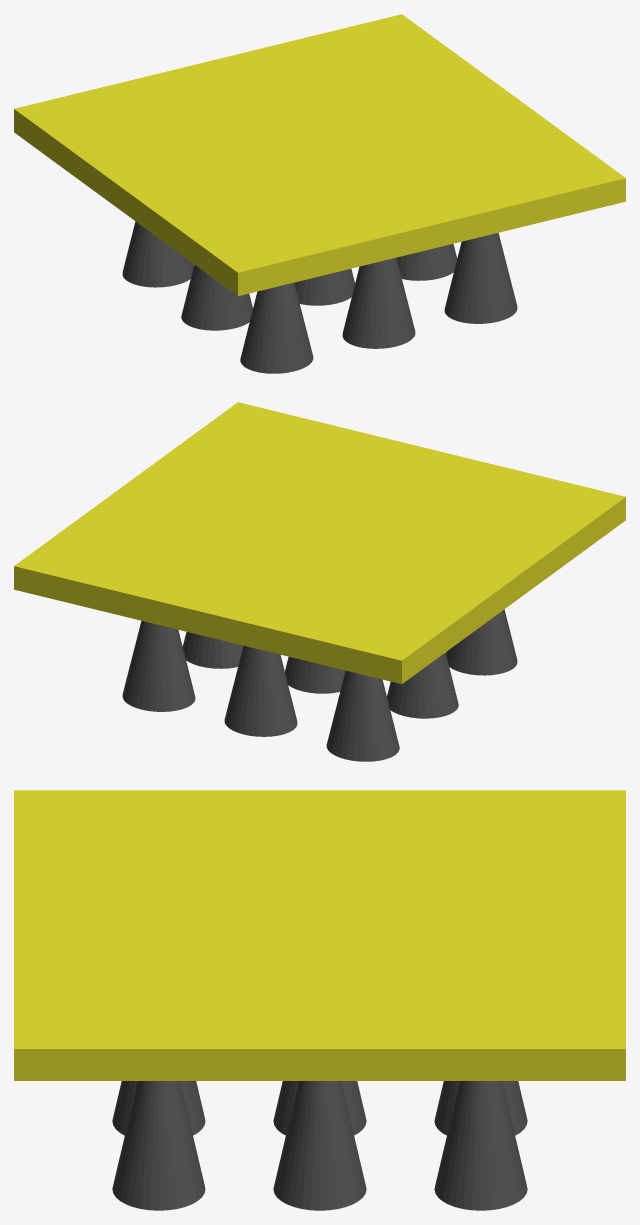
Rendered from thorns.fbx.
3 renders of one model, top to bottom at view 1: azimuth 30°, elevation 25°; view 2: azimuth 150°, elevation 25°; view 3: azimuth 270°, elevation 25°, orthographic. The views are drawn at different scales.
Visible parts, largest first — view 1: Cube, Cone.003; view 2: Cube, Cone.003; view 3: Cube, Cone.003.
Boxes of the visible parts, bbox=[...] form: Cube: bbox=[14, 14, 625, 296]; Cone.003: bbox=[122, 221, 517, 373]; Cube: bbox=[14, 402, 625, 684]; Cone.003: bbox=[122, 609, 517, 761]; Cube: bbox=[14, 790, 625, 1080]; Cone.003: bbox=[112, 1081, 527, 1210].
Size of the model in its own units: 380 by 138 by 380.
